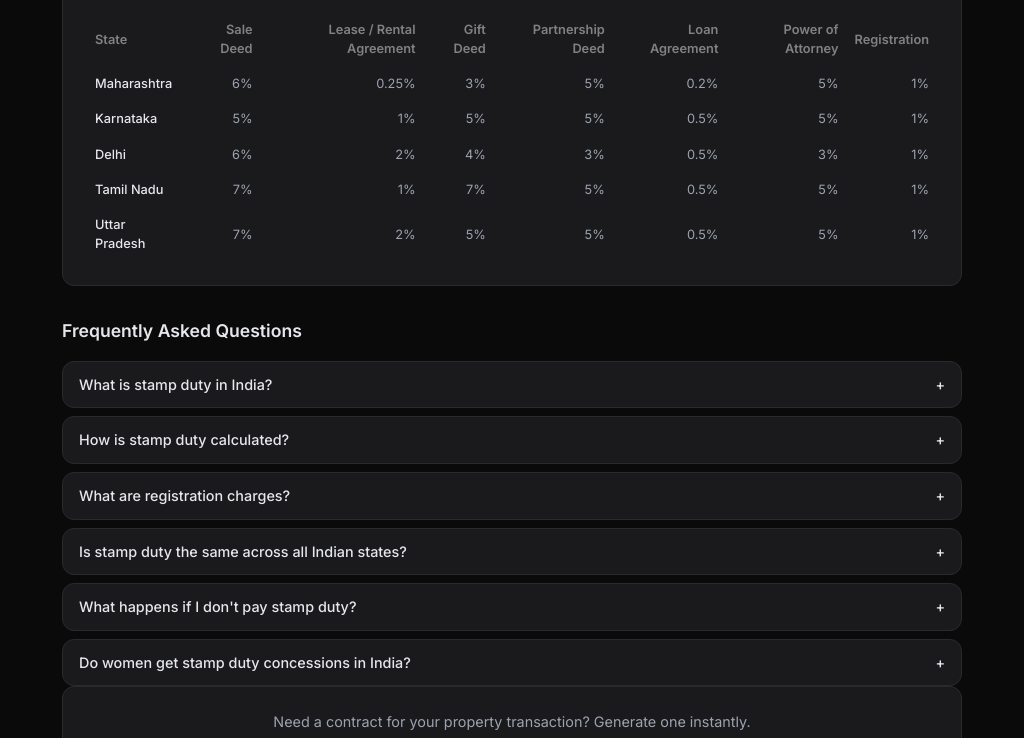
Scenario: StampDutyCalculatorPage › toggles FAQ answers
(page scrolled)
Click the button "What is stamp duty in India? +" at [176, 384], box [63,362,961,407]
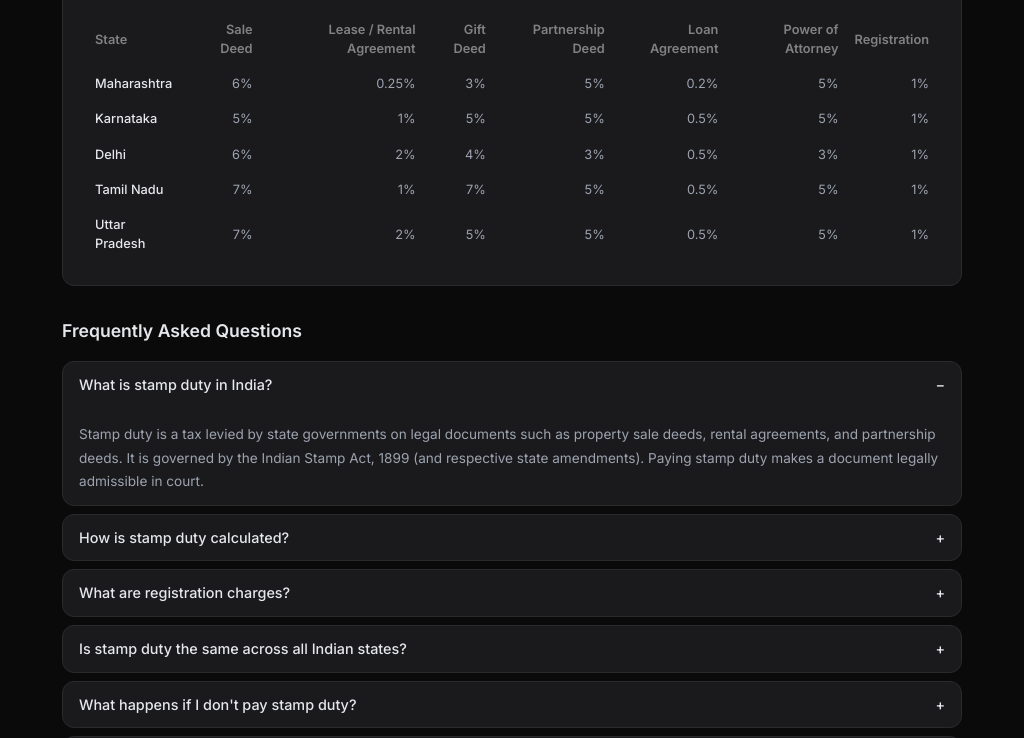
Result: the text "tax levied by state governments" is shown at [79,426,938,489]
